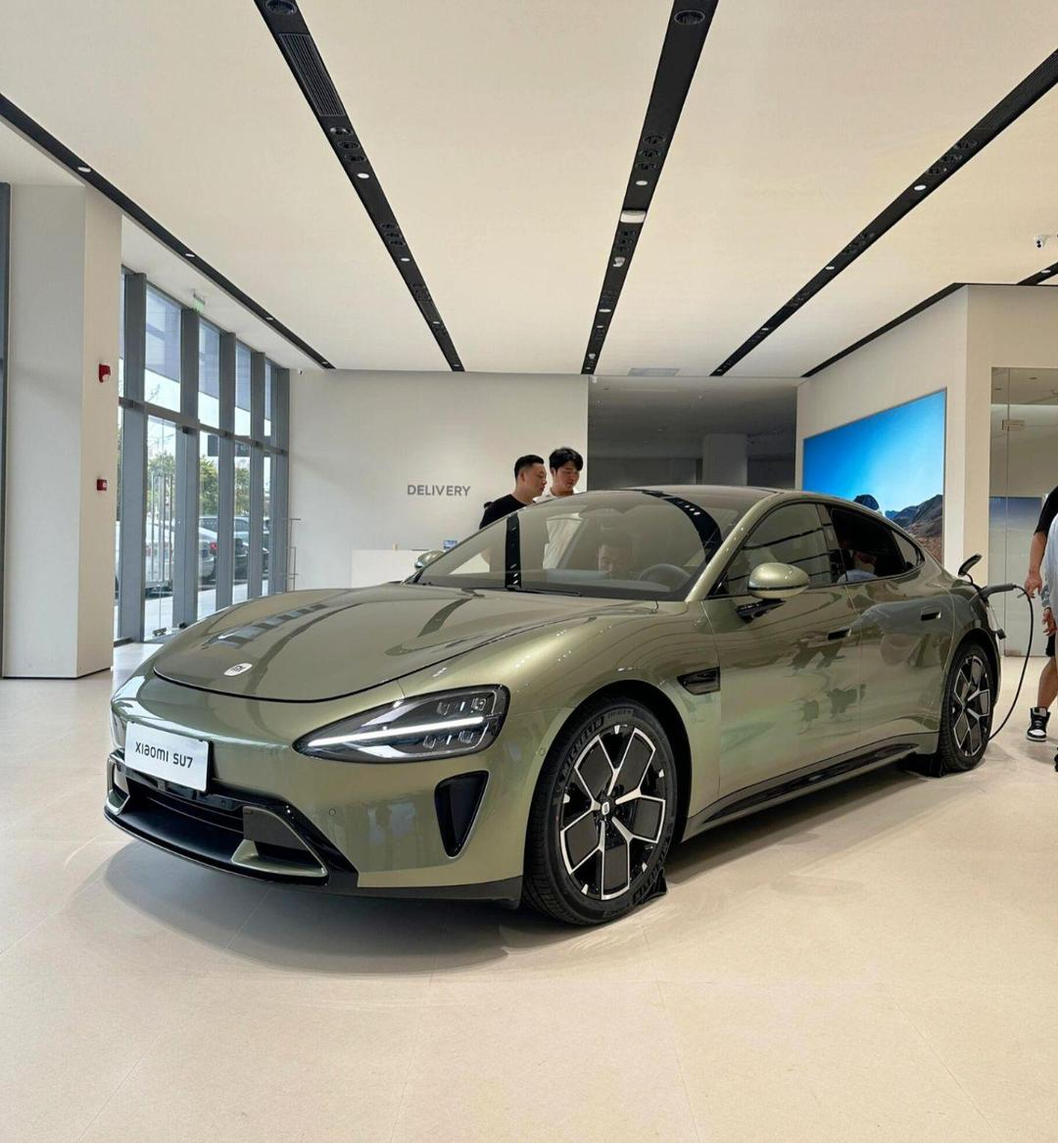su7: (91, 485, 997, 928)
